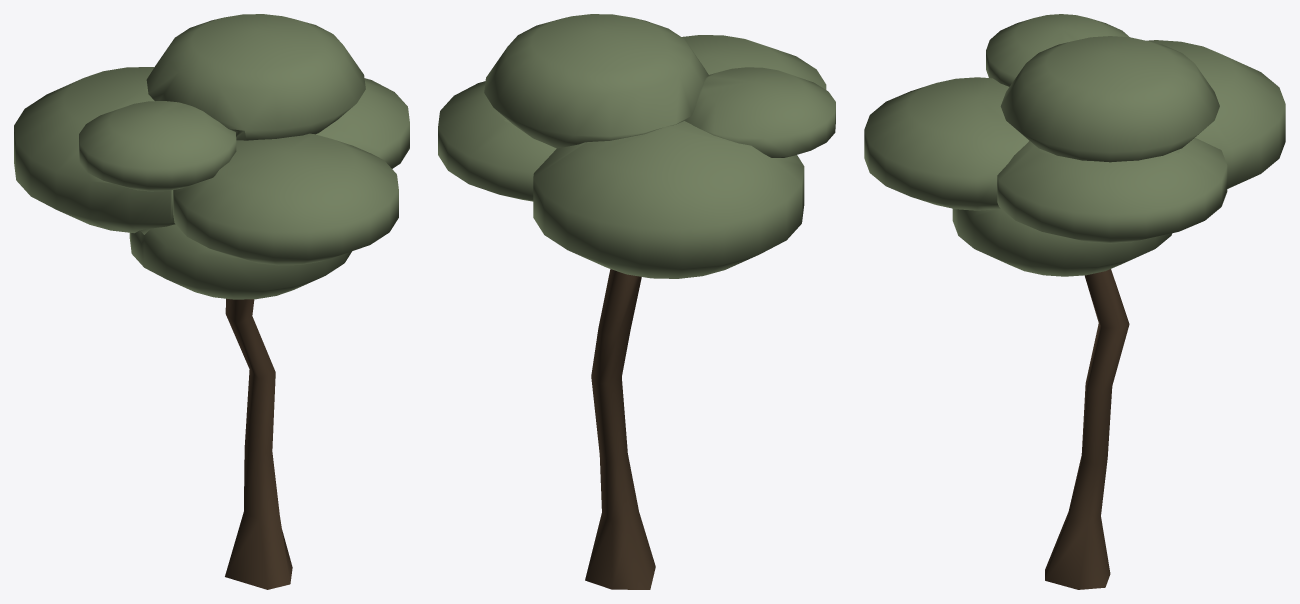
File: Tree2.fbx
3 views of the same model, side by side, from view 1: azimuth 30°, elevation 25°; view 2: azimuth 150°, elevation 25°; view 3: azimuth 270°, elevation 25° (orthographic). The views are drawn at different scales.
Visible parts, largest first — view 1: Tree2; view 2: Tree2; view 3: Tree2.
Boxes of the visible parts, bbox=[...] form: Tree2: bbox=[14, 14, 409, 589]; Tree2: bbox=[438, 14, 835, 589]; Tree2: bbox=[864, 14, 1285, 589].
Bounding box in the file's own units: 5.71 × 8.48 × 6.15.
